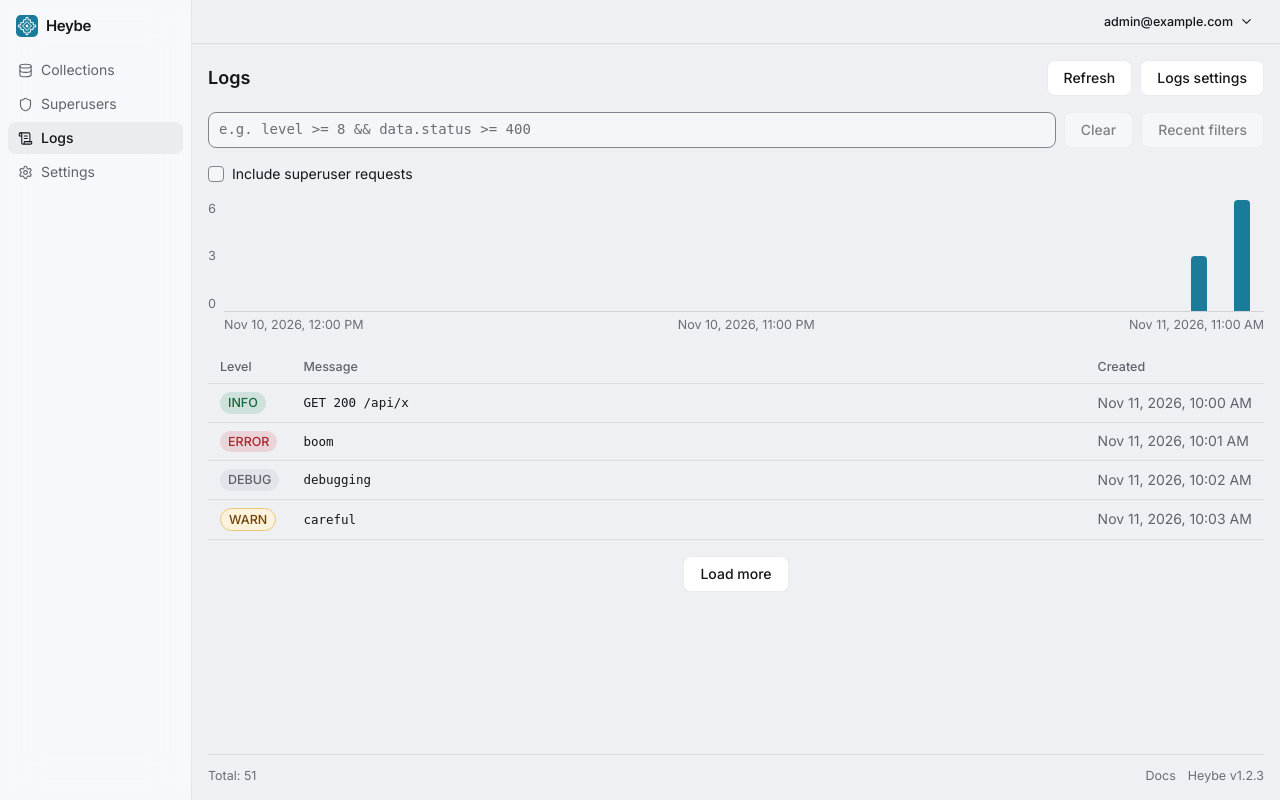
Test: Load more fetches the next page
expect the button "boom" is shown: met, box [303,432,1074,450]
Click the button "Load more" at {"x": 736, "y": 574}, box [683,556,788,592]
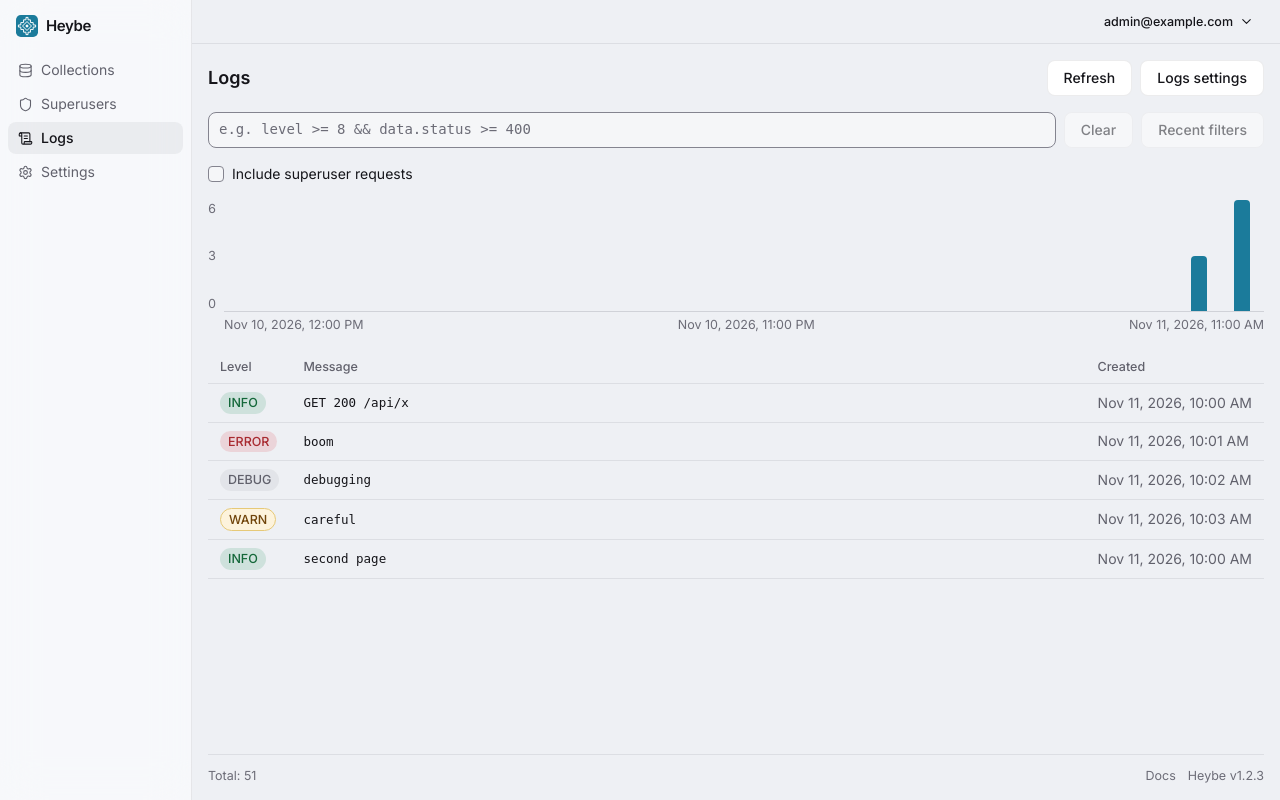
expect the button "boom" is shown: met, box [303,432,1074,450]
expect the button "second page" is shown: met, box [303,550,1074,568]
